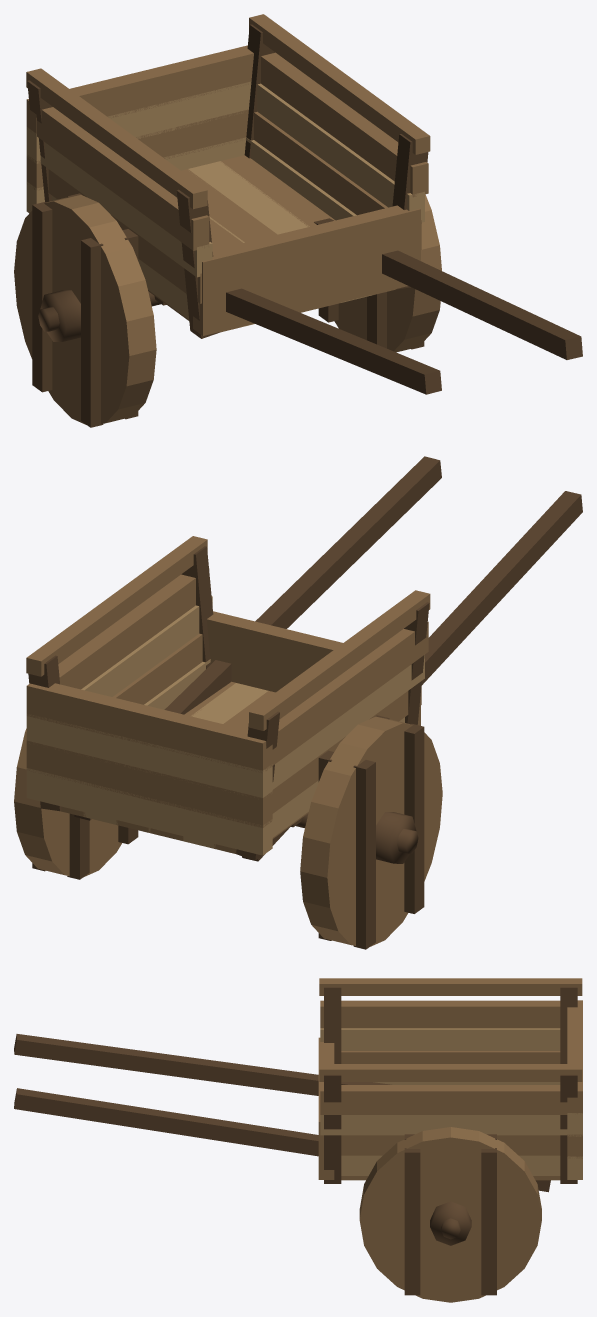
Rendered from hand_cart_lod0.glb.
The picture shows the model from 3 angles, top to bottom: view 1: azimuth 30°, elevation 25°; view 2: azimuth 150°, elevation 25°; view 3: azimuth 270°, elevation 25°; orthographic projection. The views are drawn at different scales.
Parts seen in each view (by area): view 1: CartBody, WheelLeft, WheelRight; view 2: CartBody, WheelLeft, WheelRight; view 3: CartBody, WheelRight.
Part boxes in pixels (x1,y1,x2,y2): CartBody: (26, 14, 582, 394); WheelLeft: (14, 193, 156, 427); WheelRight: (318, 194, 441, 352); CartBody: (26, 456, 582, 861); WheelLeft: (300, 715, 442, 949); WheelRight: (14, 728, 138, 879); CartBody: (14, 978, 582, 1239); WheelRight: (359, 1127, 541, 1302).
Size of the model in its own units: 1.62 by 1.16 by 2.74.
